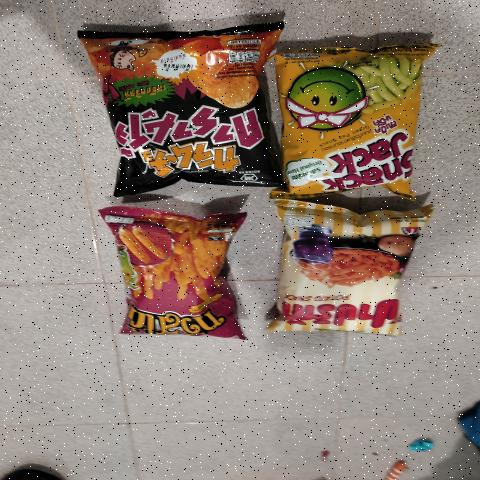karamujo: (101, 33, 275, 185)
paprika: (281, 210, 392, 334)
snack_jack: (294, 56, 410, 186)
twisco: (126, 214, 225, 340)
